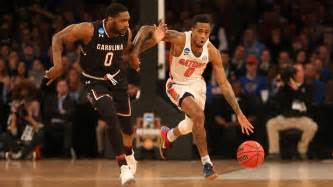basketball: (235, 139, 267, 171)
